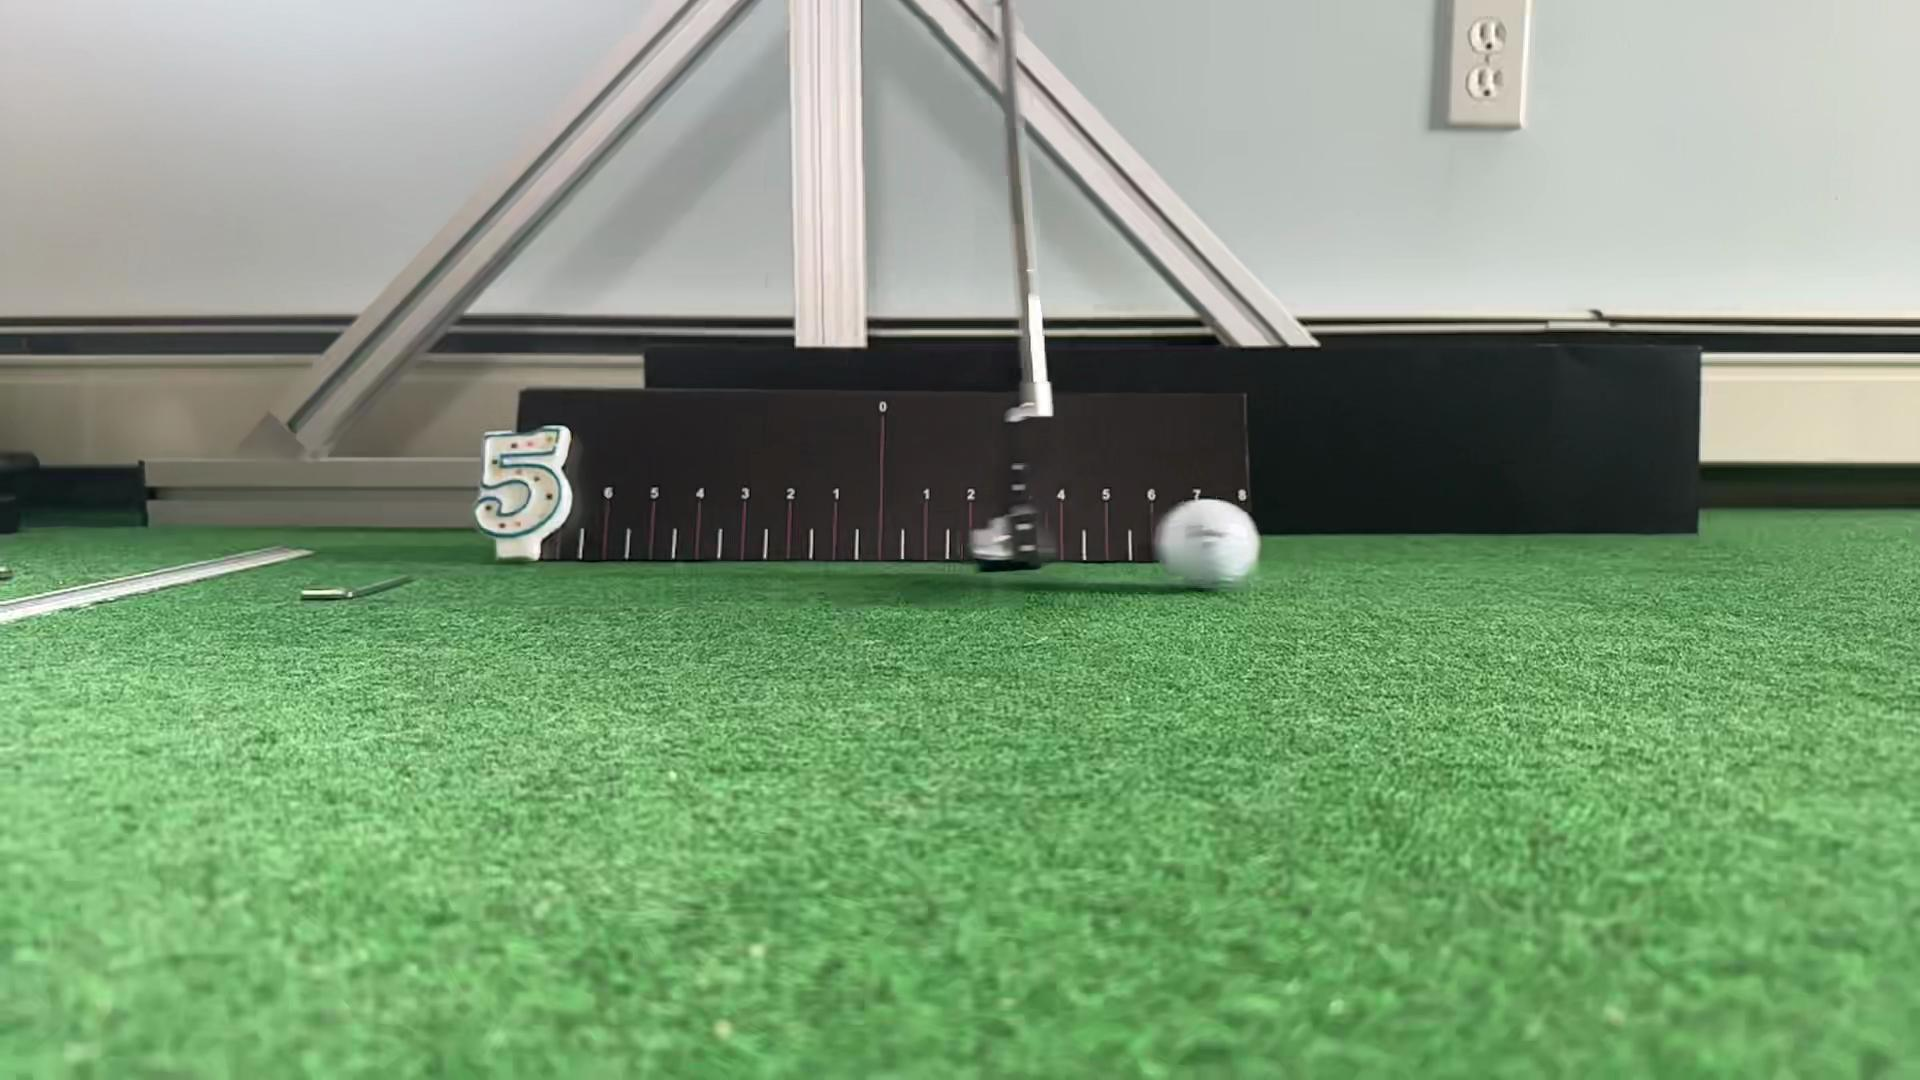golfball: (1157, 499, 1258, 587)
